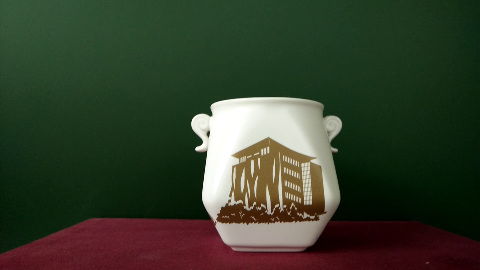library: (221, 144, 320, 218)
